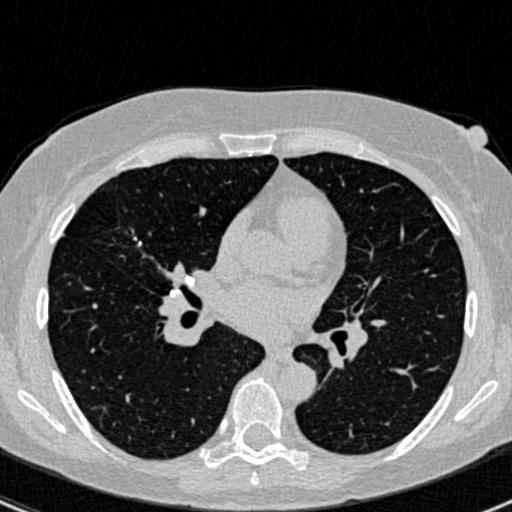nodule: (130, 234, 142, 246)
